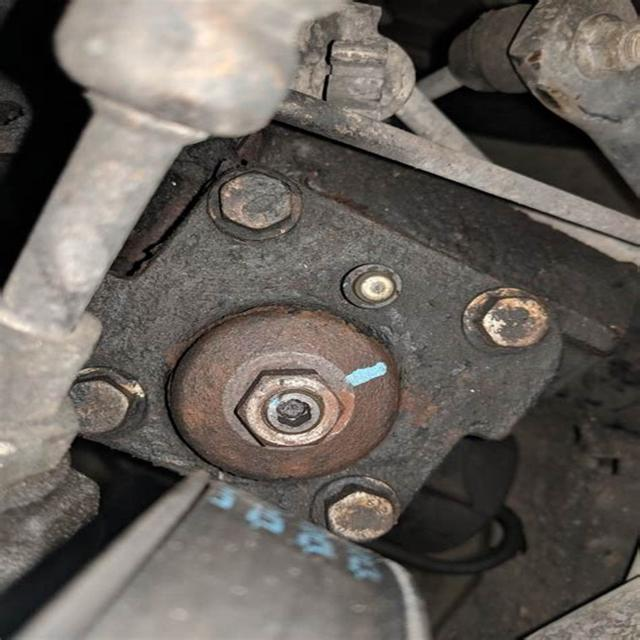bolt head: (51, 376, 139, 439), (320, 482, 397, 546), (218, 167, 292, 233), (476, 294, 554, 350)
bolt nut: (228, 368, 348, 451), (585, 14, 637, 75)
